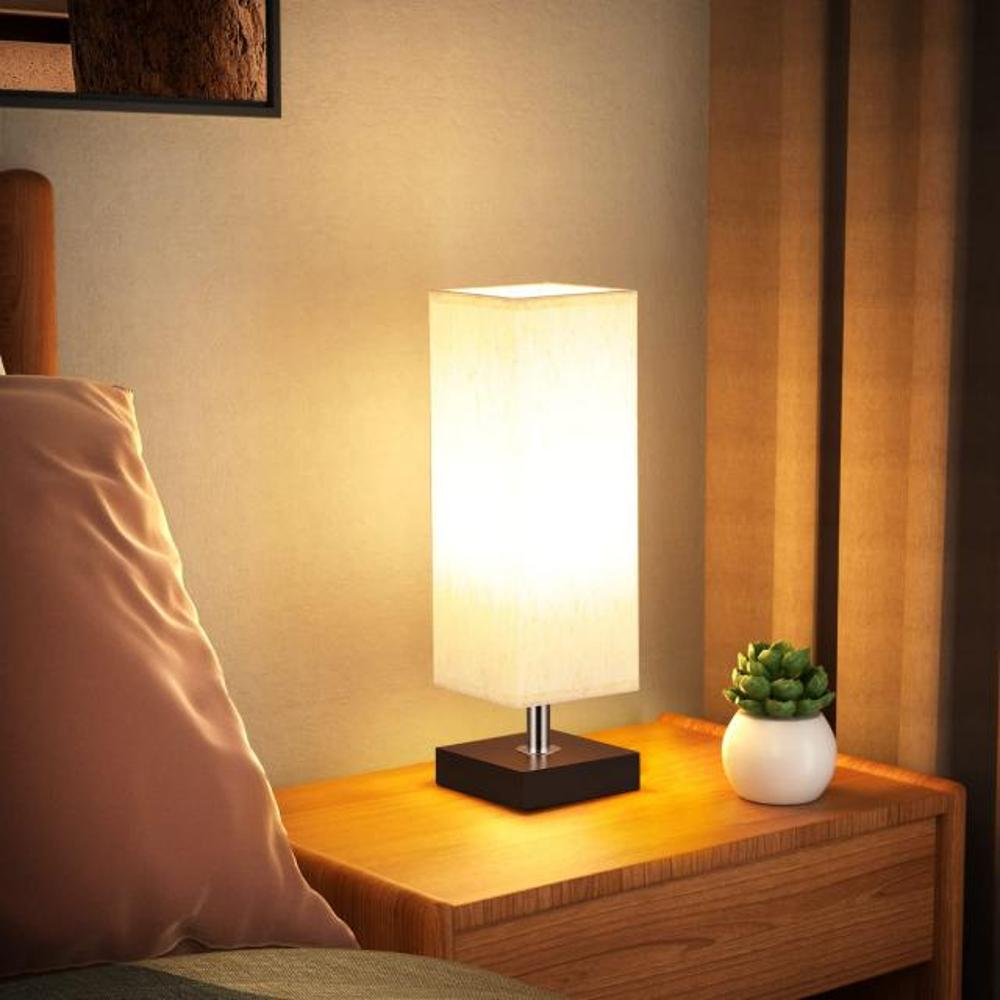shelf: (390, 256, 680, 820)
